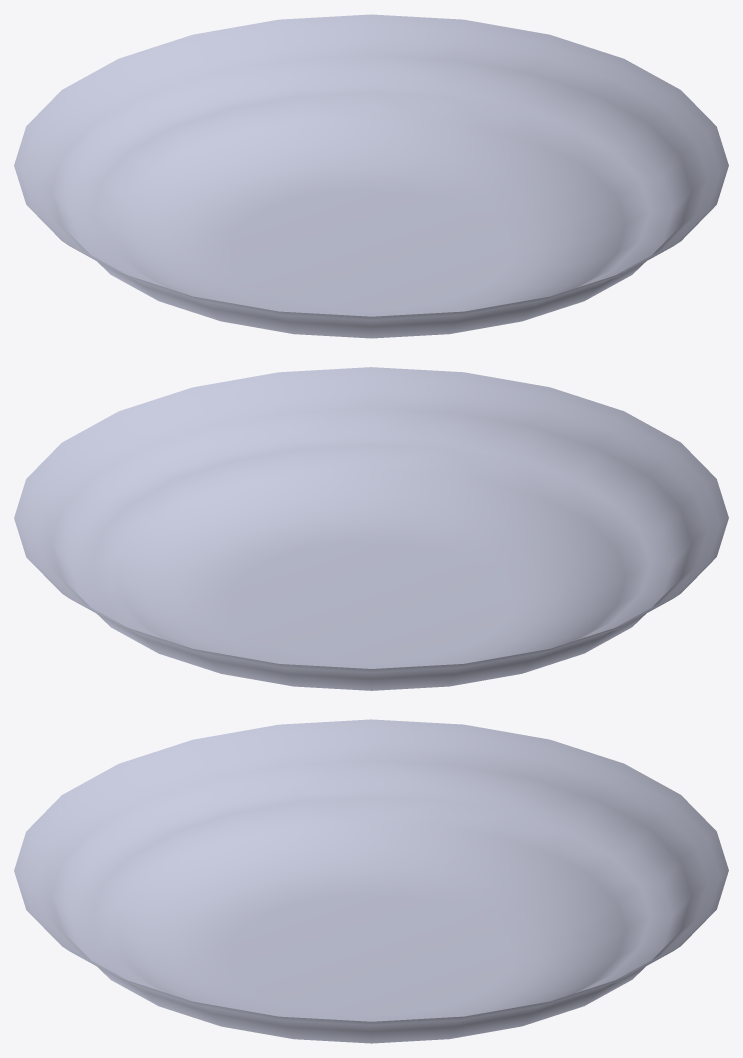
Rendered from dish(plate).dae.
The picture shows the model from 3 angles, top to bottom: view 1: azimuth 30°, elevation 25°; view 2: azimuth 150°, elevation 25°; view 3: azimuth 270°, elevation 25°; orthographic projection.
Visible parts, largest first — view 1: dish_001; view 2: dish_001; view 3: dish_001.
Part boxes in pixels (left/top/right/bottom): dish_001: left=14, top=14, right=728, bottom=338; dish_001: left=14, top=367, right=728, bottom=690; dish_001: left=14, top=719, right=728, bottom=1043.
Bounding box in the file's own units: 0.3526 × 0.3526 × 0.0462.
